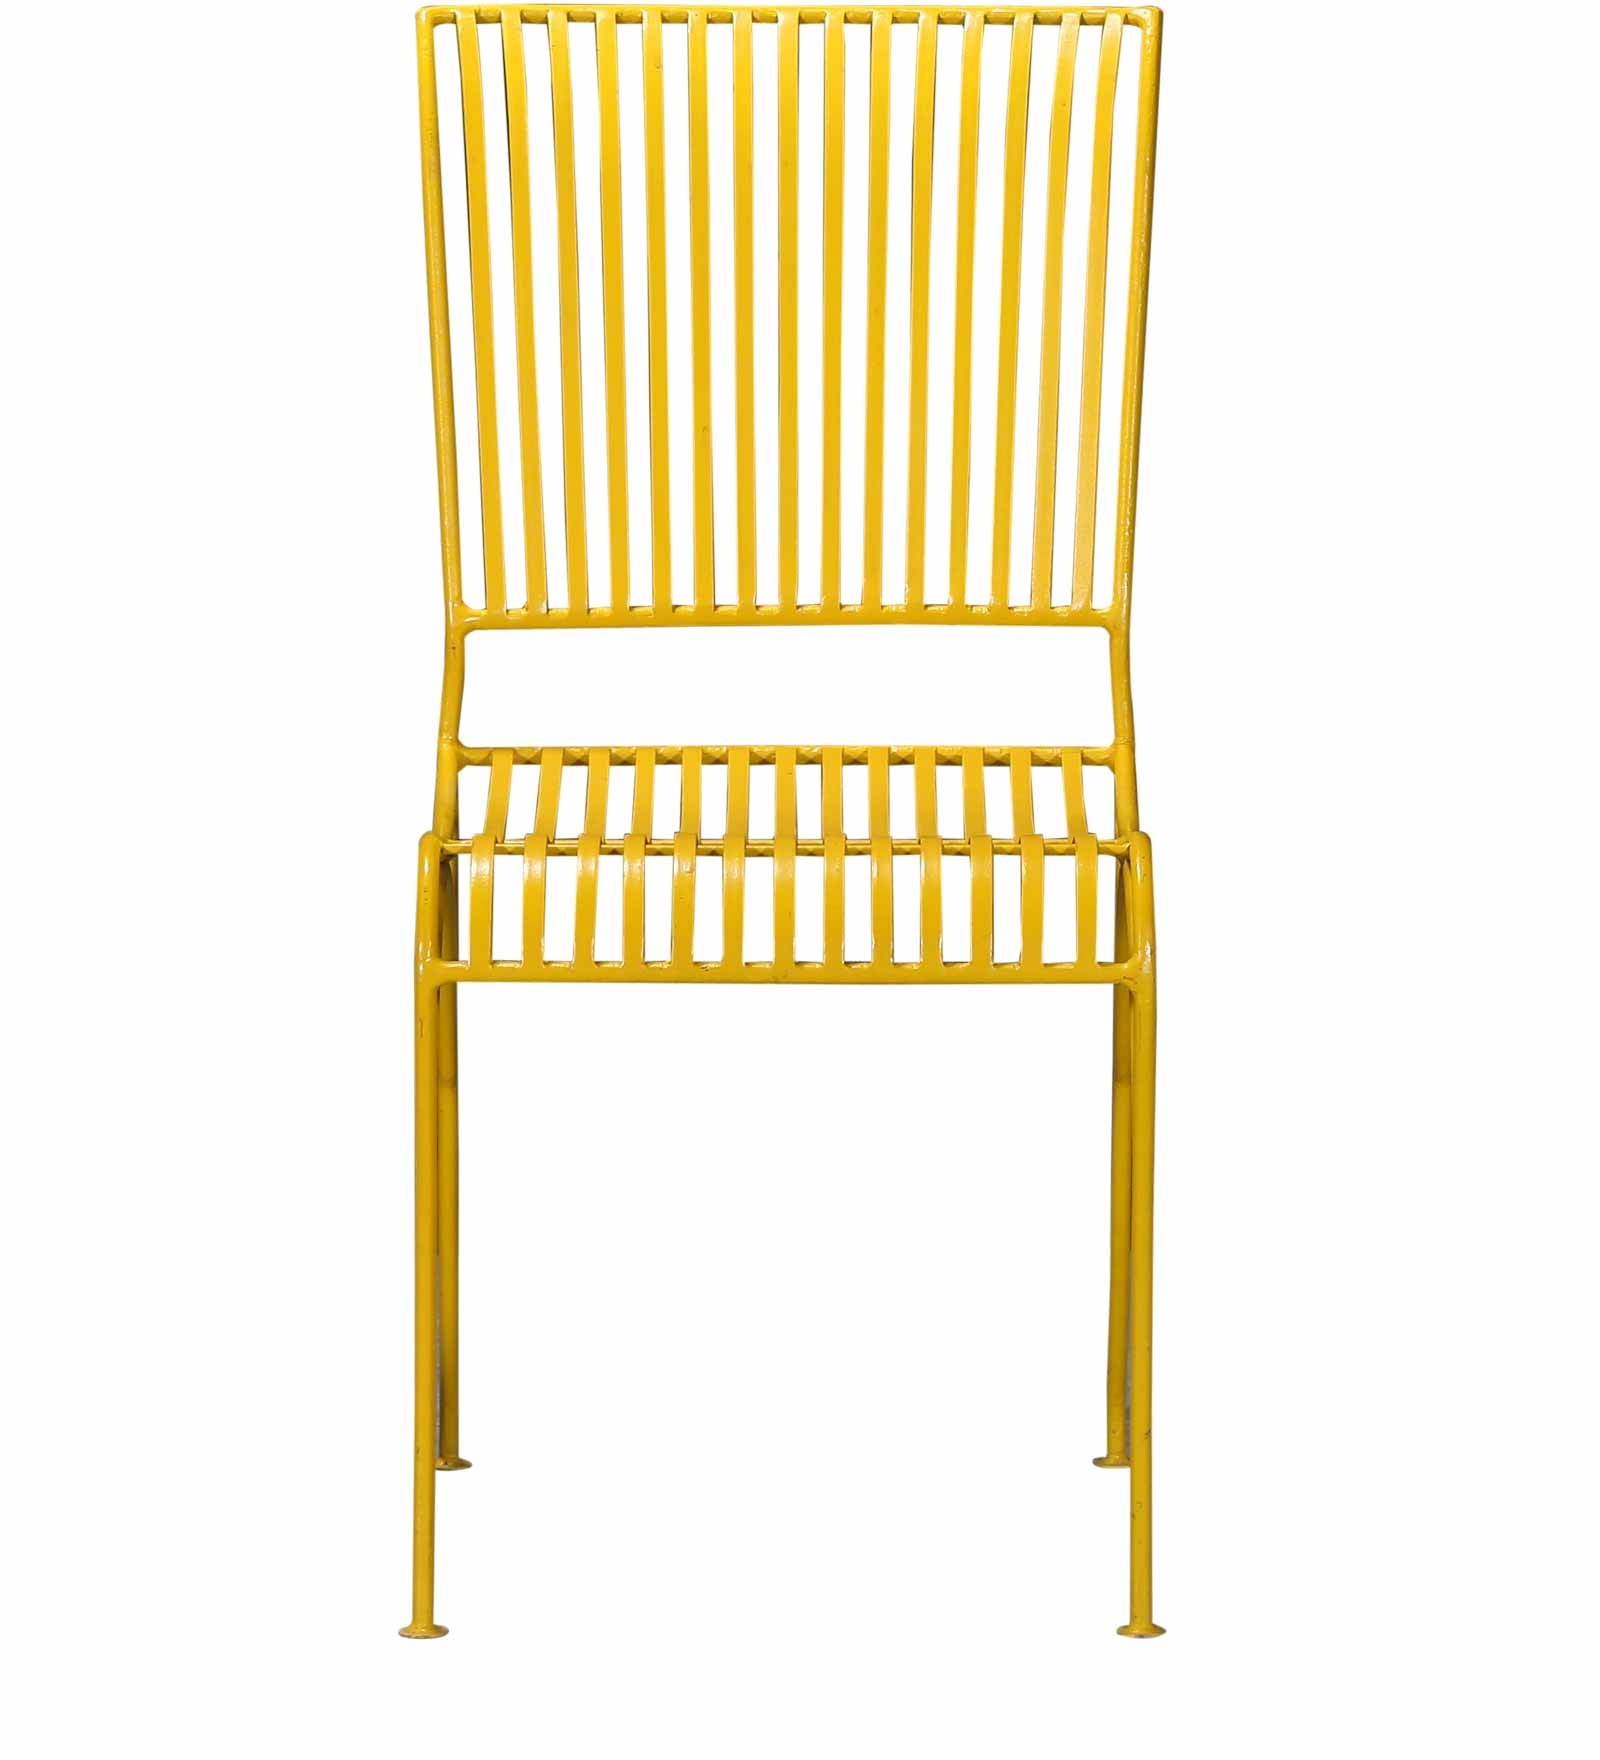Lisheen Outdoor Iron Chair in Yellow Color by Bohemiana: (343, 8, 1192, 1702)
